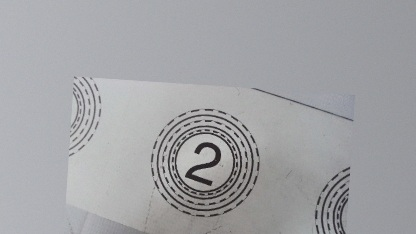2r: (146, 104, 263, 222)
